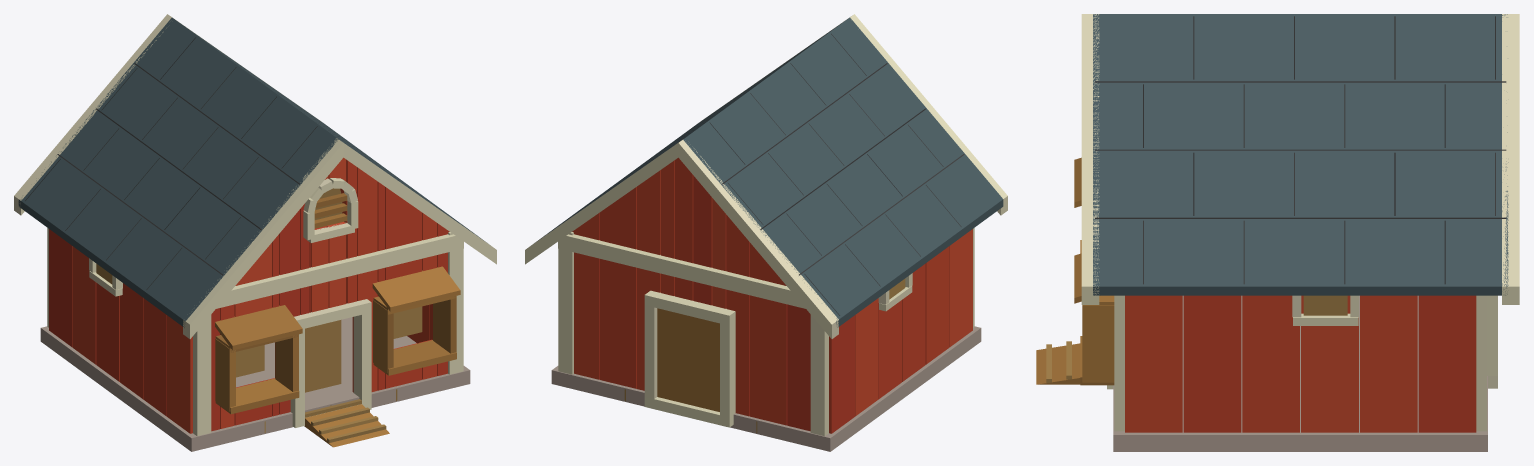
File: ChickenCoop_Mobile_A.fbx
3 views of the same model, side by side, from view 1: azimuth 30°, elevation 25°; view 2: azimuth 150°, elevation 25°; view 3: azimuth 270°, elevation 25° (orthographic). The views are drawn at different scales.
Parts seen in each view (by area): view 1: ChickenCoop_Mobile_A_Body; view 2: ChickenCoop_Mobile_A_Body; view 3: ChickenCoop_Mobile_A_Body.
Part boxes in pixels (x1=…): ChickenCoop_Mobile_A_Body: x1=14, y1=14, x2=496, y2=451; ChickenCoop_Mobile_A_Body: x1=525, y1=14, x2=1007, y2=451; ChickenCoop_Mobile_A_Body: x1=1036, y1=14, x2=1519, y2=451.
Bounding box in the file's own units: 3.5 × 3.1 × 3.84.
